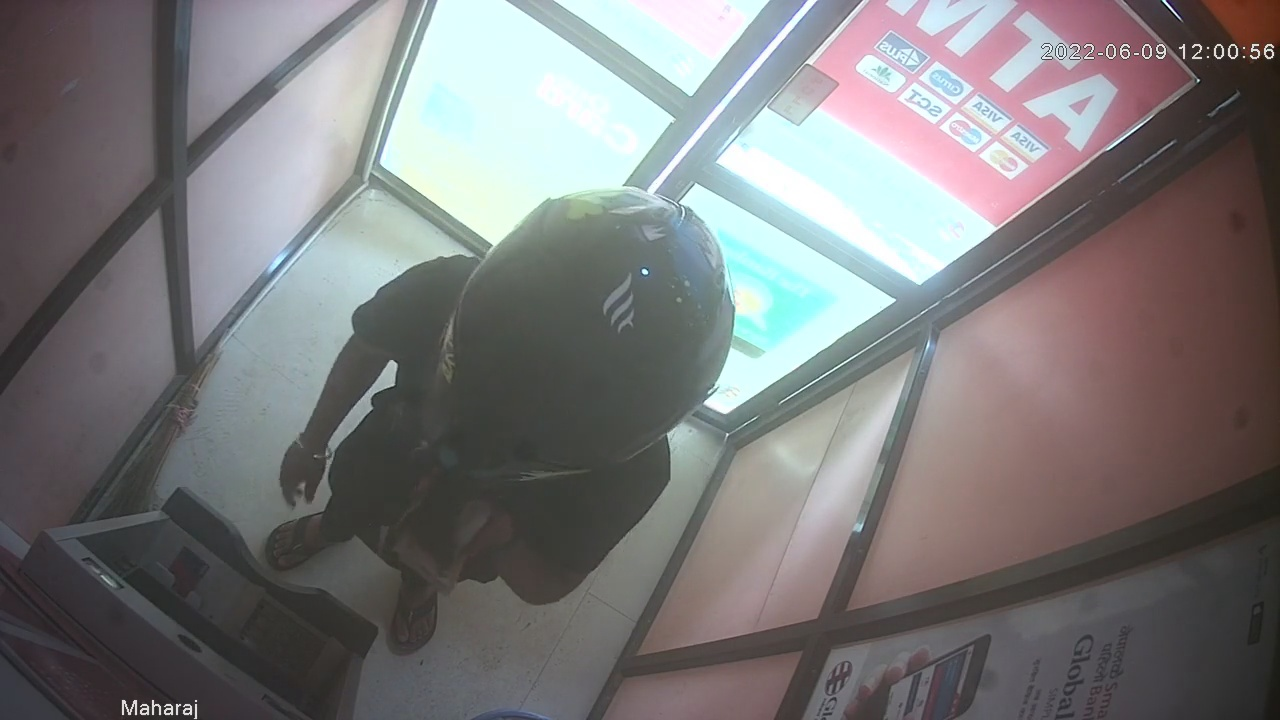helmet: (419, 182, 734, 483)
person: (263, 184, 736, 655)
